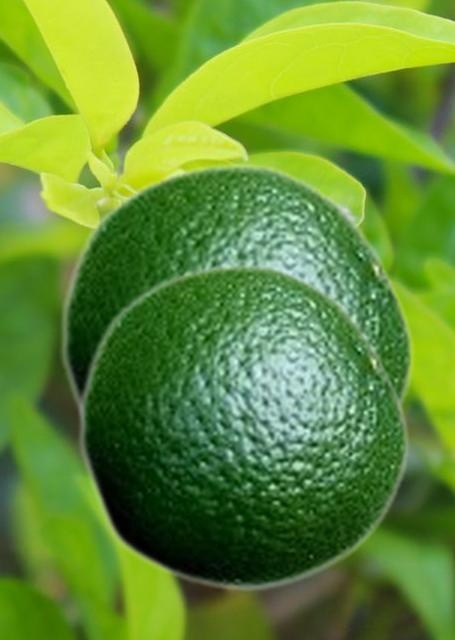calamansi: (76, 261, 410, 592), (58, 161, 415, 420)
